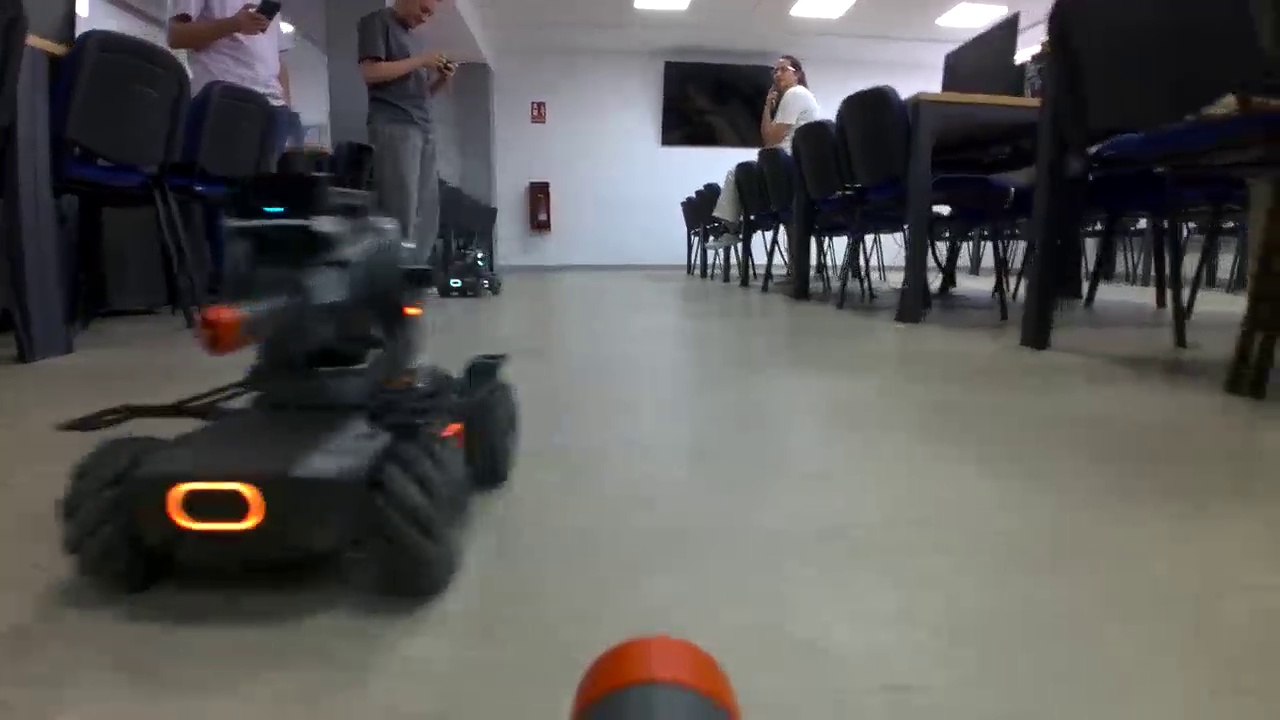robot: (55, 175, 520, 615), (448, 245, 502, 315)
